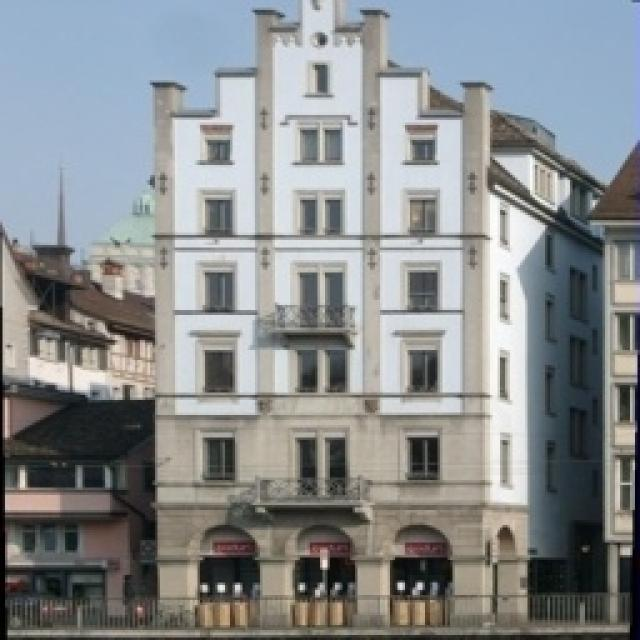building: (122, 0, 588, 640)
